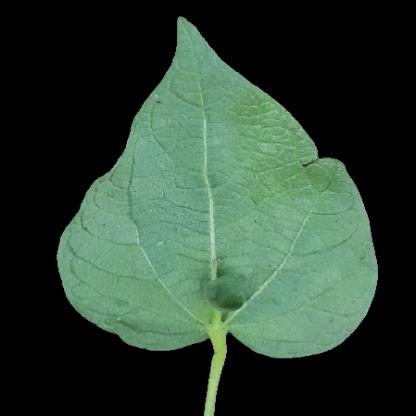curl_stage2: (163, 91, 263, 227), (270, 178, 352, 336), (78, 212, 176, 323)
leaf_enation: (176, 231, 267, 325)
